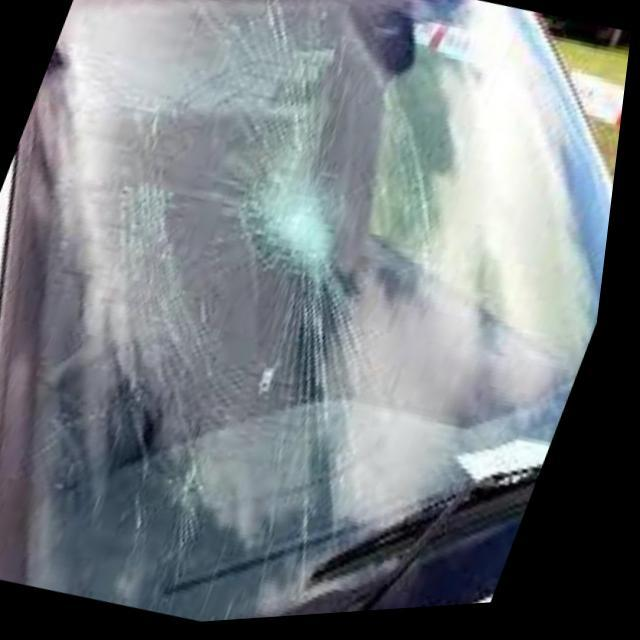glass shatter: (257, 160, 342, 274)
